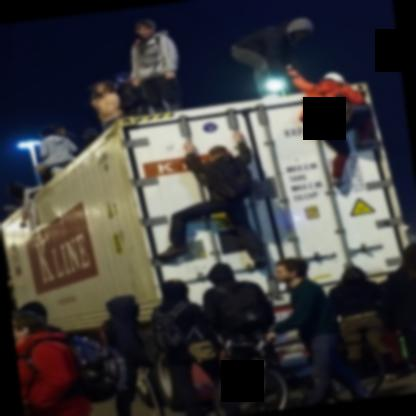backpack: (23, 332, 130, 402), (150, 299, 197, 353), (222, 285, 273, 333), (211, 156, 258, 196), (82, 322, 119, 362), (316, 93, 352, 123)
handbag: (316, 93, 356, 124)
